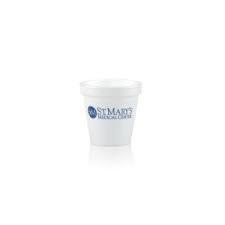Plastic cup: (79, 74, 148, 157)
